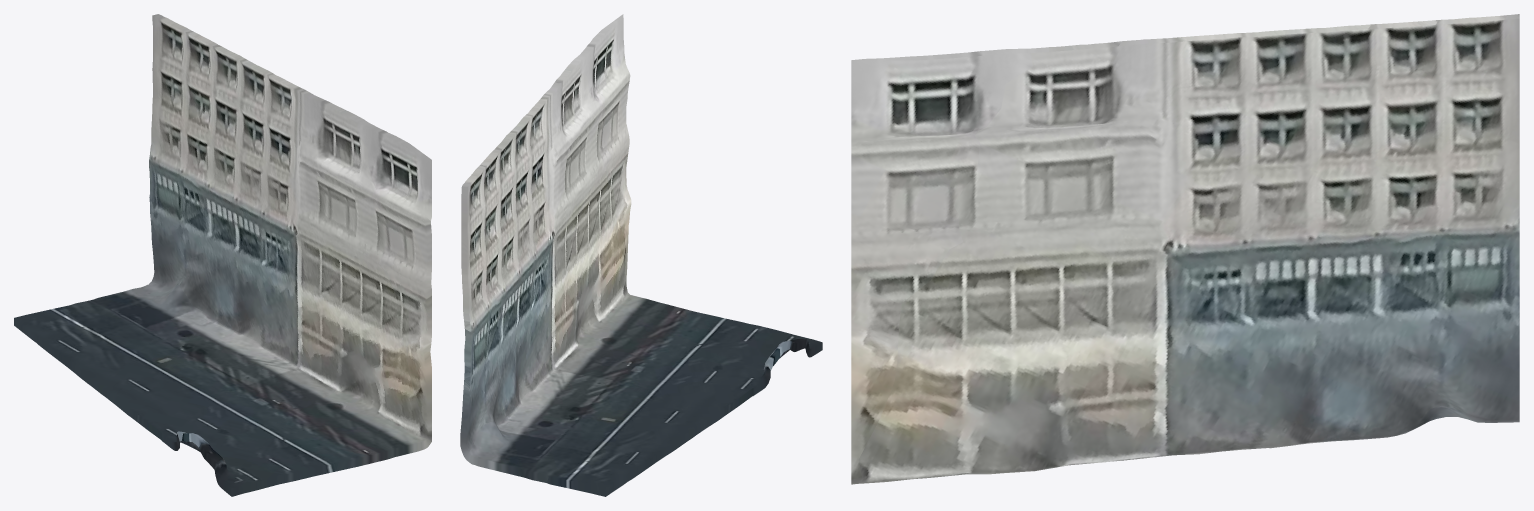
Rendered from z20-167758-405241-h0-yup-uvflip-v3-world.glb.
The picture shows the model from 3 angles, left to right: view 1: azimuth 30°, elevation 25°; view 2: azimuth 150°, elevation 25°; view 3: azimuth 270°, elevation 25°; orthographic projection. The views are drawn at different scales.
Size of the model in its own units: 16.08 by 22.2 by 30.32.
1 material, 1 textured.
